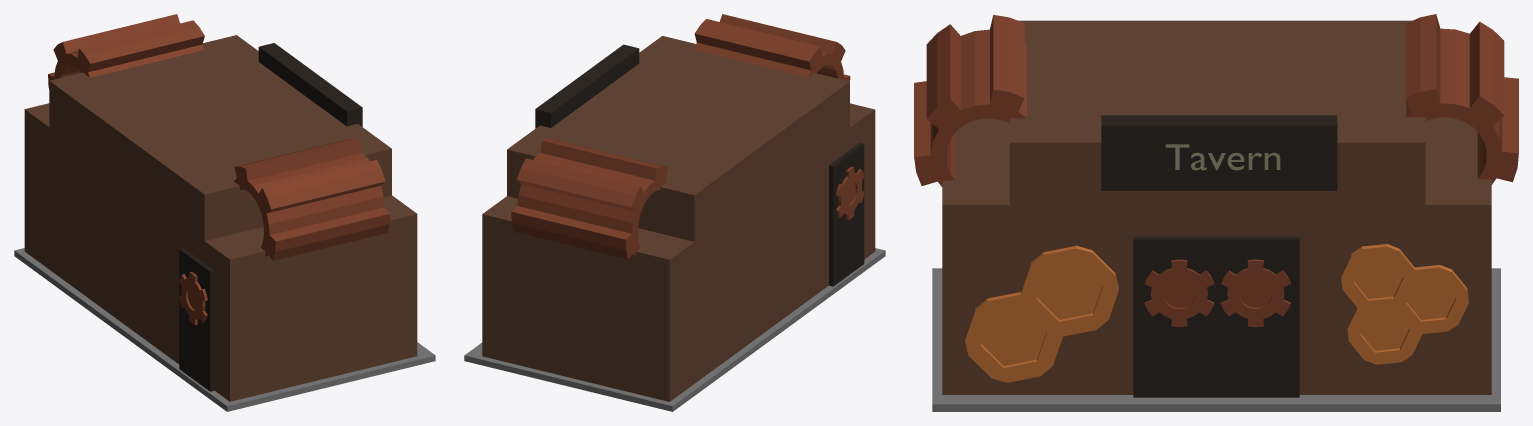
Rendered from Building4.fbx.
The picture shows the model from 3 angles, left to right: view 1: azimuth 30°, elevation 25°; view 2: azimuth 150°, elevation 25°; view 3: azimuth 270°, elevation 25°; orthographic projection. The views are drawn at different scales.
Parts seen in each view (by area): view 1: tavern; view 2: tavern; view 3: tavern.
Part boxes in pixels (left/top/right/bottom): tavern: left=14, top=14, right=435, bottom=411; tavern: left=464, top=14, right=885, bottom=411; tavern: left=914, top=14, right=1518, bottom=411.
Bounding box in the file's own units: 524 × 522 × 984.
